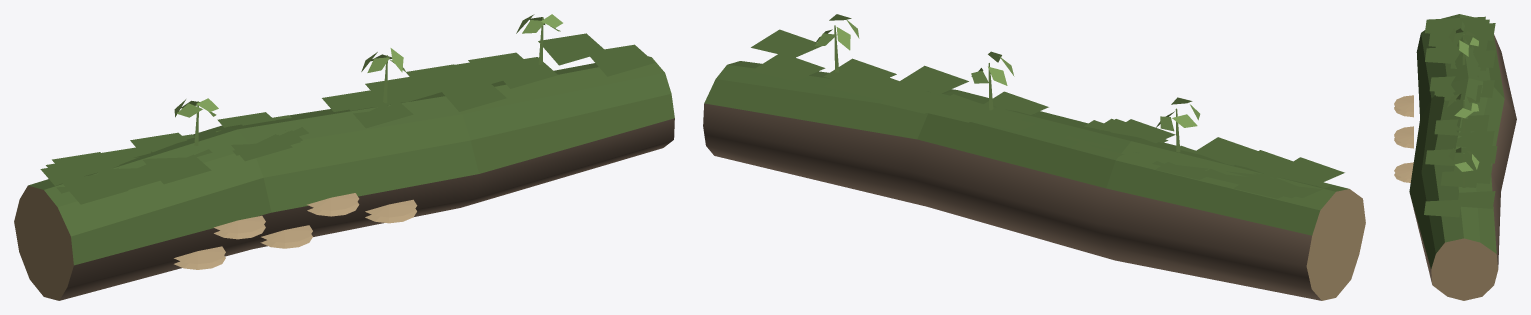
The model's file is nurse-log.glb.
The picture shows the model from 3 angles, left to right: view 1: azimuth 30°, elevation 25°; view 2: azimuth 150°, elevation 25°; view 3: azimuth 270°, elevation 25°; orthographic projection. The views are drawn at different scales.
Visible parts, largest first — view 1: prop_nurse-log_LOD0; view 2: prop_nurse-log_LOD0; view 3: prop_nurse-log_LOD0.
Part boxes in pixels (bbox=[...]): prop_nurse-log_LOD0: bbox=[14, 14, 674, 300]; prop_nurse-log_LOD0: bbox=[703, 14, 1365, 300]; prop_nurse-log_LOD0: bbox=[1394, 14, 1516, 300].
Bounding box in the file's own units: 5.5 × 1.44 × 1.35.
